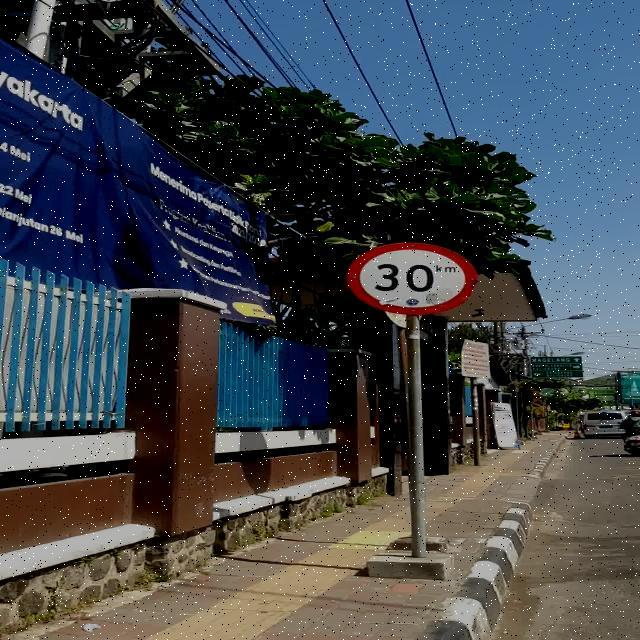Kecepatan Maks. 30 km: (345, 242, 479, 316)
